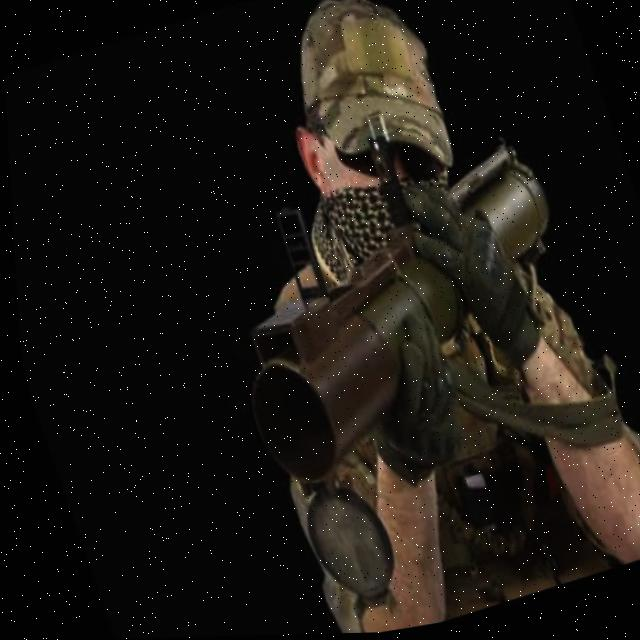rocket: (183, 132, 621, 507)
